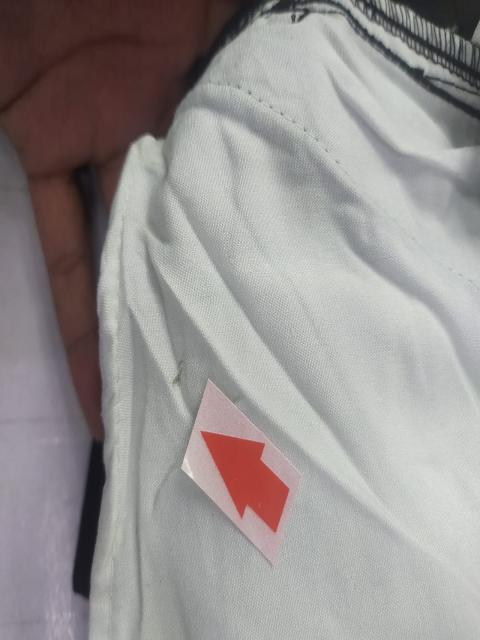Dirty_mark: (170, 346, 188, 389)
